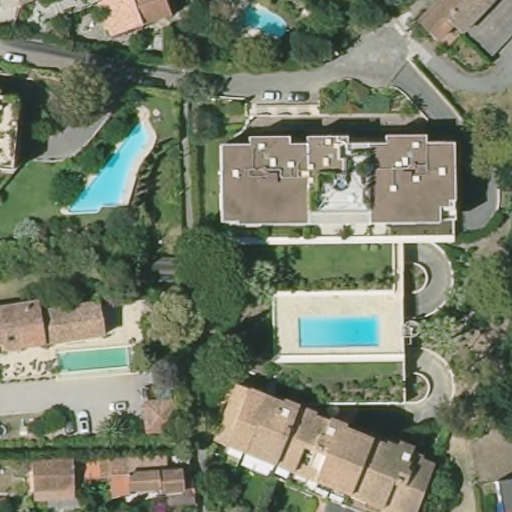pool: (63, 118, 157, 215), (291, 308, 392, 352), (49, 343, 140, 375), (228, 3, 293, 41)
